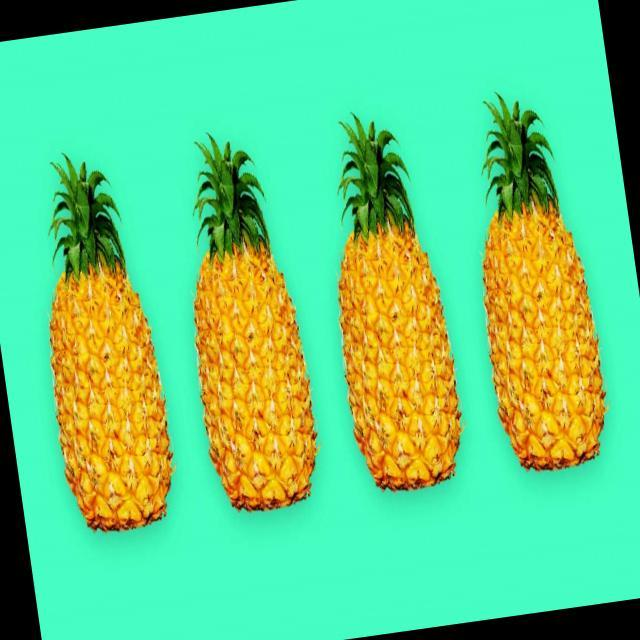PINEAPLE: (22, 137, 188, 550), (455, 80, 614, 478), (166, 122, 324, 518), (314, 112, 470, 496)
